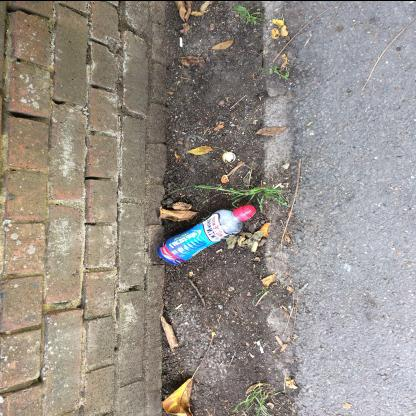plastik: (158, 204, 256, 264)
